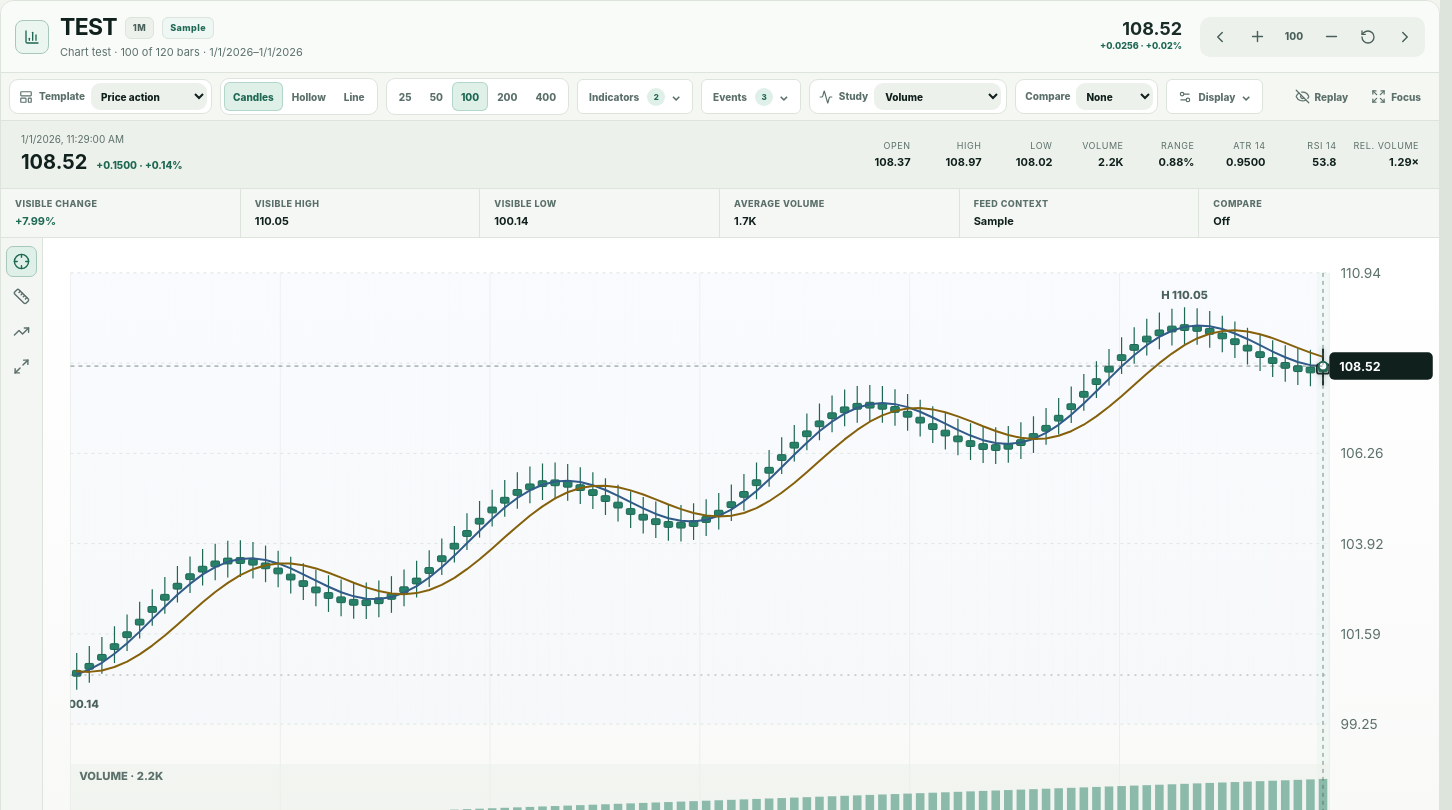
Test: MarketChart › offers direct fine zoom and chart drawing guidance
Click the button named "Zoom in" at coordinates (1257, 36), box [1240, 20, 1274, 54]
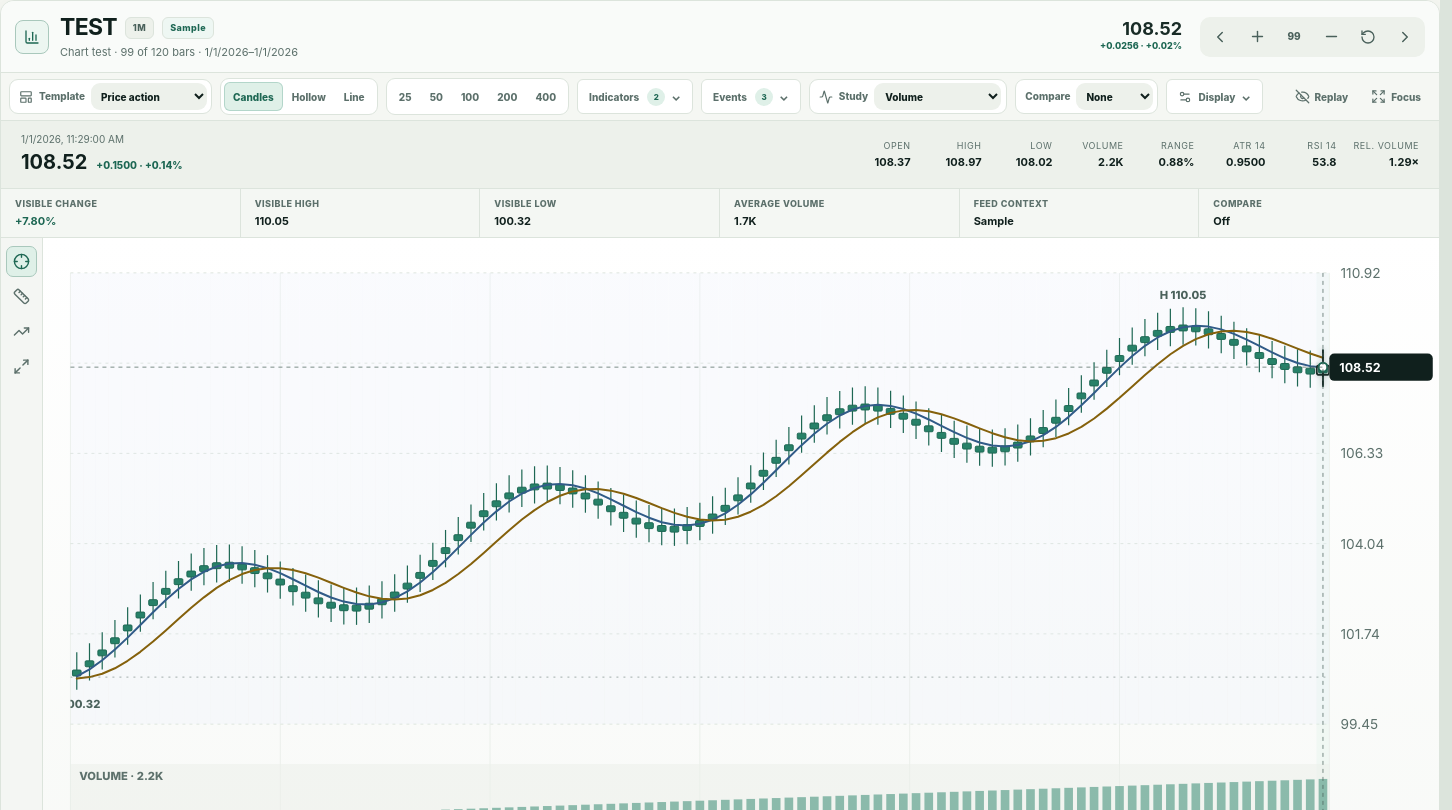
Expected: the text "Chart test · 99 of 120 bars · 1/1/2026–1/1/2026" is shown, [60, 44, 298, 60]
Click the button named "Trend line" at coordinates (22, 332), box [6, 316, 37, 347]
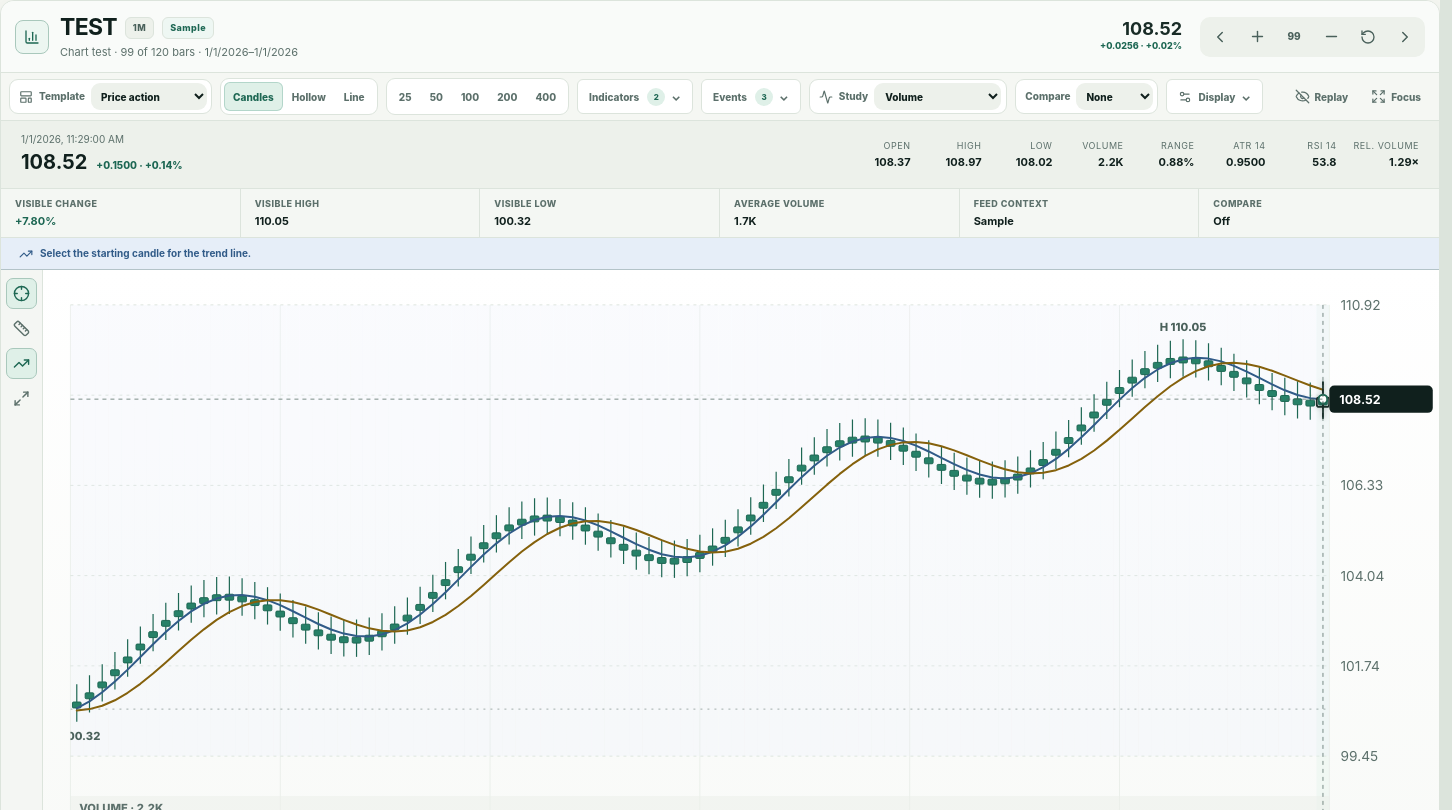
Expected: the text "Select the starting candle for the trend line." is shown, [1, 238, 1439, 270]
